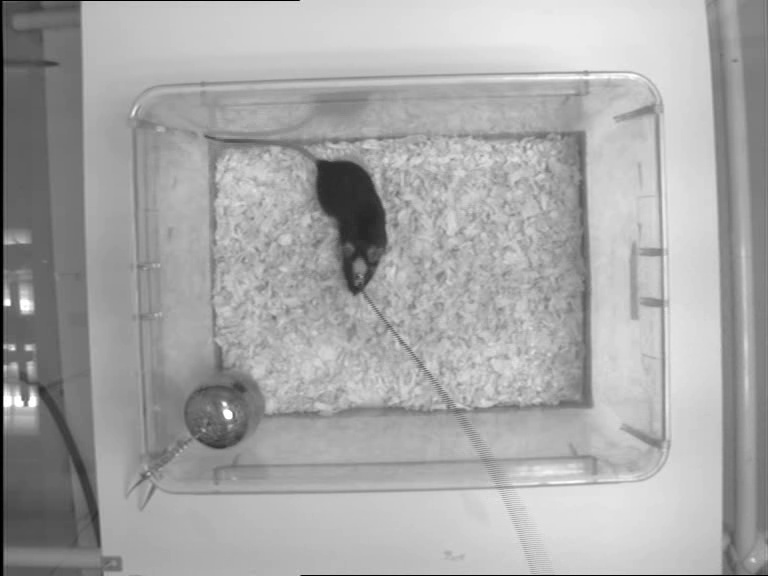mice: (202, 129, 388, 300)
